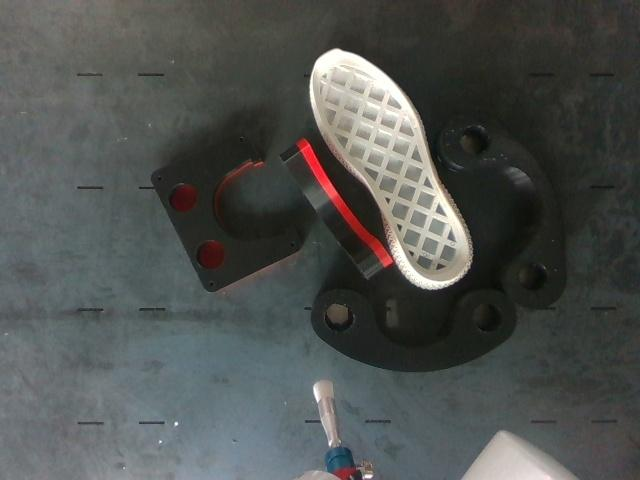shoes: (312, 50, 470, 282)
